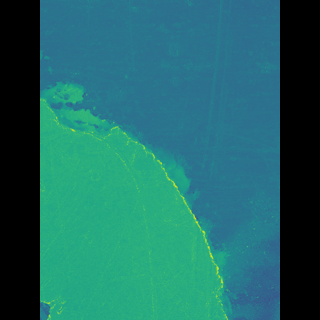Loch: (69, 74, 219, 320)
